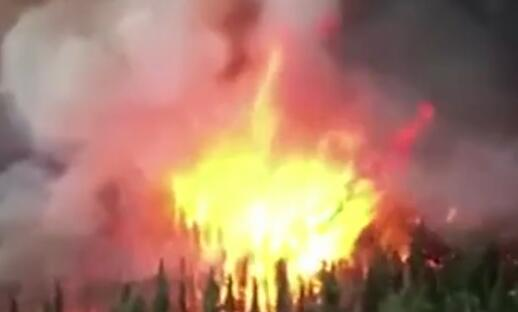fire: (166, 52, 411, 294)
yanwu: (5, 0, 373, 288)
